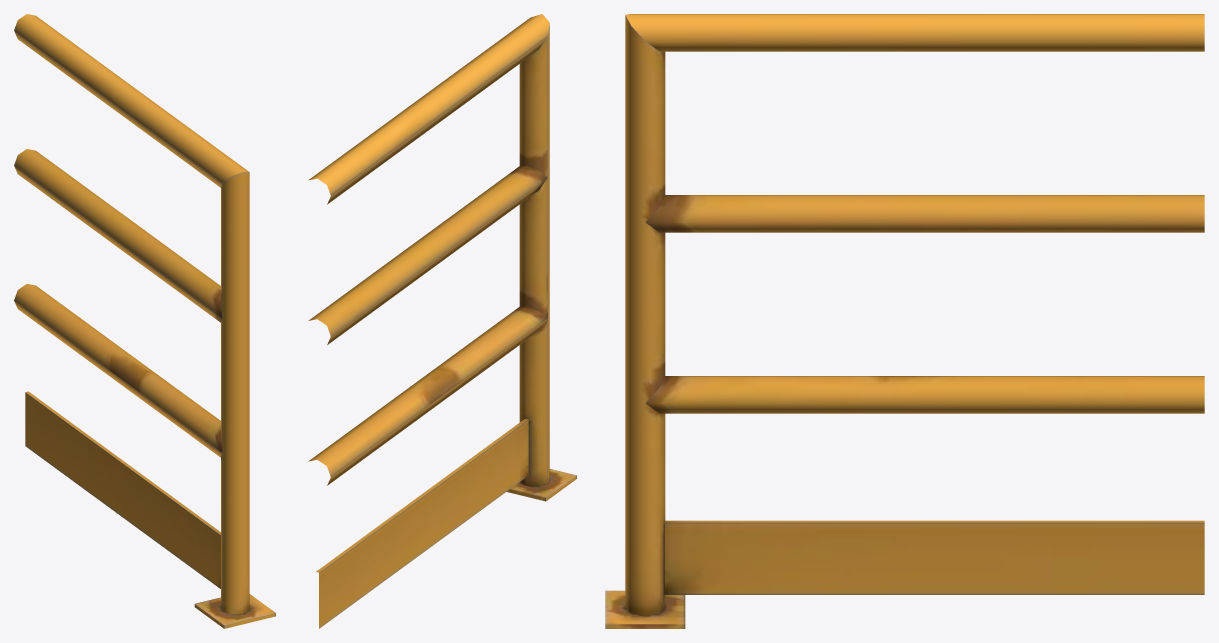
3 renders of one model, left to right at view 1: azimuth 30°, elevation 25°; view 2: azimuth 150°, elevation 25°; view 3: azimuth 270°, elevation 25°, orthographic. The views are drawn at different scales.
Parts seen in each view (by area): view 1: body0_model0_lod0_mesh0; view 2: body0_model0_lod0_mesh0; view 3: body0_model0_lod0_mesh0.
Part boxes in pixels (x1,y1,x2,y2): body0_model0_lod0_mesh0: (14,14,275,628); body0_model0_lod0_mesh0: (308,14,576,628); body0_model0_lod0_mesh0: (605,14,1204,628).
Size of the model in its own units: 4 by 33 by 30.
Materials: 1 (1 with a texture image).
